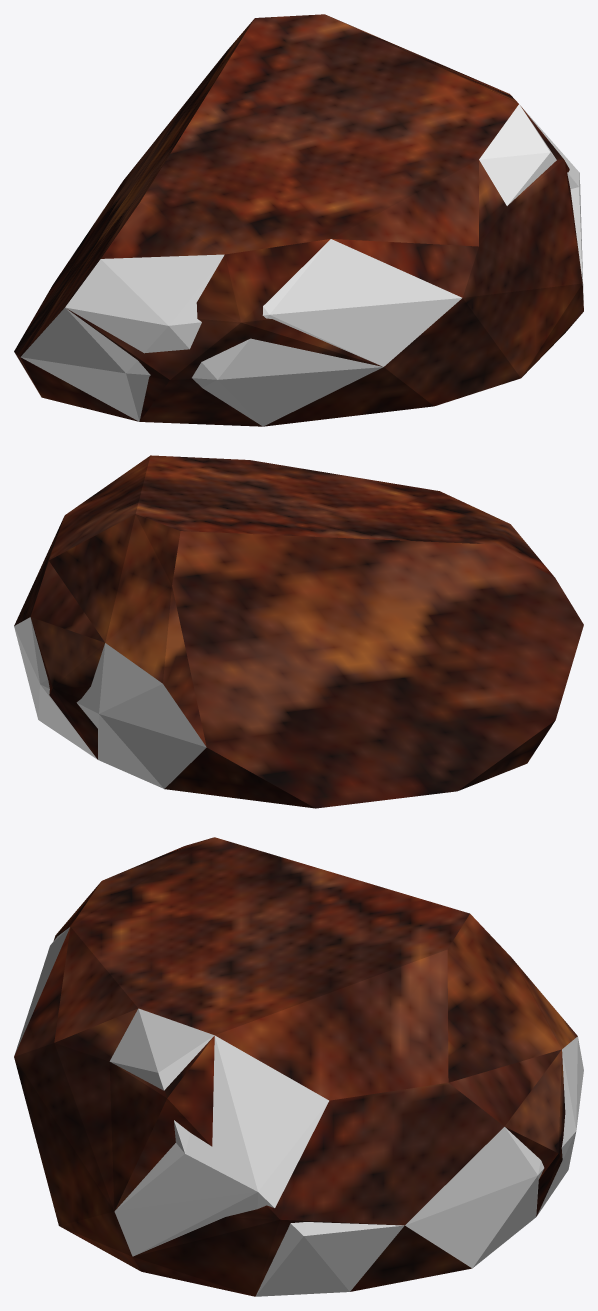
Rendered from Laterita-01-Seixo.glb.
3 views of the same model, one above another, from view 1: azimuth 30°, elevation 25°; view 2: azimuth 150°, elevation 25°; view 3: azimuth 270°, elevation 25° (orthographic). The views are drawn at different scales.
Parts seen in each view (by area): view 1: Laterita-01-Seixo, Laterita-01-Seixo_COL; view 2: Laterita-01-Seixo, Laterita-01-Seixo_COL; view 3: Laterita-01-Seixo, Laterita-01-Seixo_COL.
Boxes of the visible parts, x1,y1,x2,y2 form: Laterita-01-Seixo: (14, 14, 583, 426); Laterita-01-Seixo_COL: (20, 104, 583, 426); Laterita-01-Seixo: (14, 455, 583, 808); Laterita-01-Seixo_COL: (14, 617, 206, 788); Laterita-01-Seixo: (14, 837, 577, 1296); Laterita-01-Seixo_COL: (14, 927, 583, 1296).
Size of what is drawn, in the model's own units: 0.8981 by 0.3751 by 0.715.
Materials: 1 (1 with a texture image).
